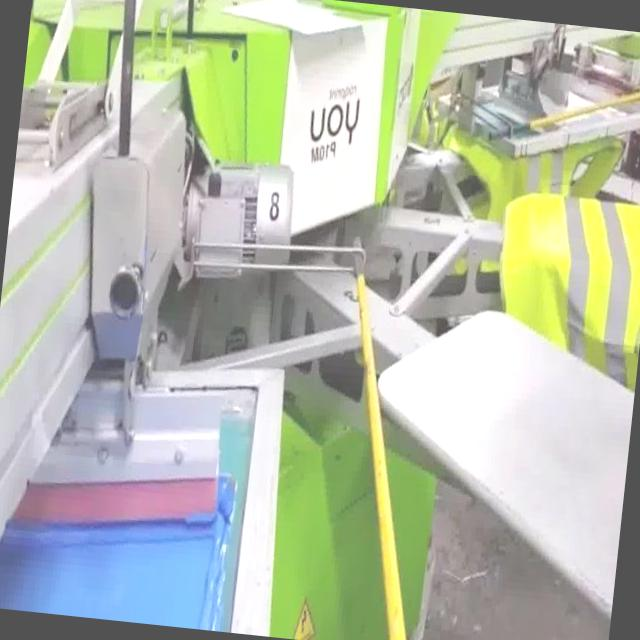vest: (485, 188, 640, 395)
